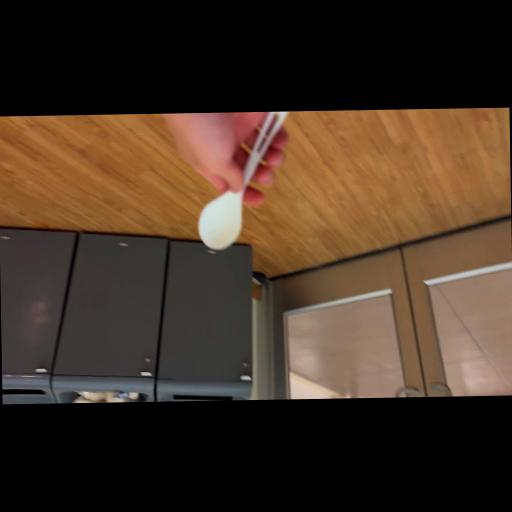utensil: (194, 111, 294, 253)
